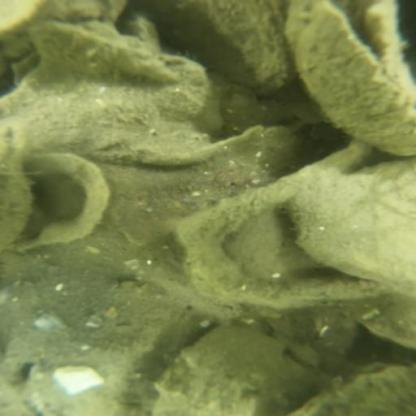Oyster-Closed: (102, 125, 301, 249), (5, 55, 212, 164), (289, 158, 414, 295), (155, 327, 327, 416), (135, 0, 292, 95), (29, 22, 189, 78), (30, 348, 142, 412), (292, 364, 415, 415), (4, 153, 31, 250)
Oyster-Open: (289, 0, 416, 157)
